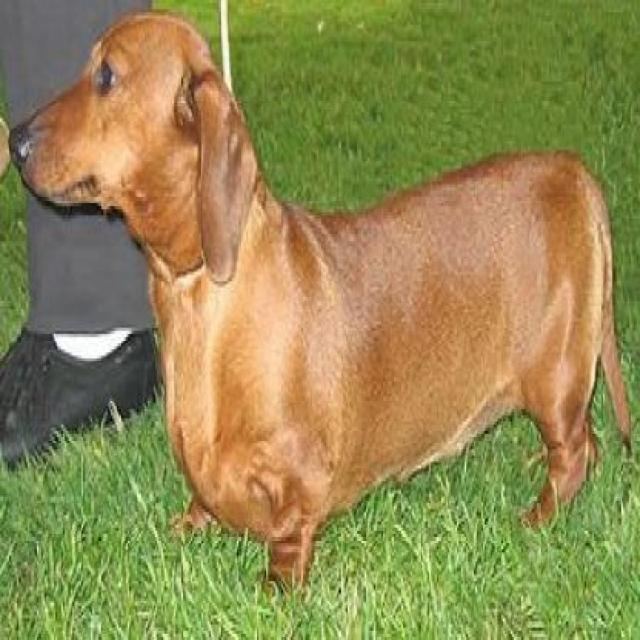Dog: (3, 9, 639, 609)
